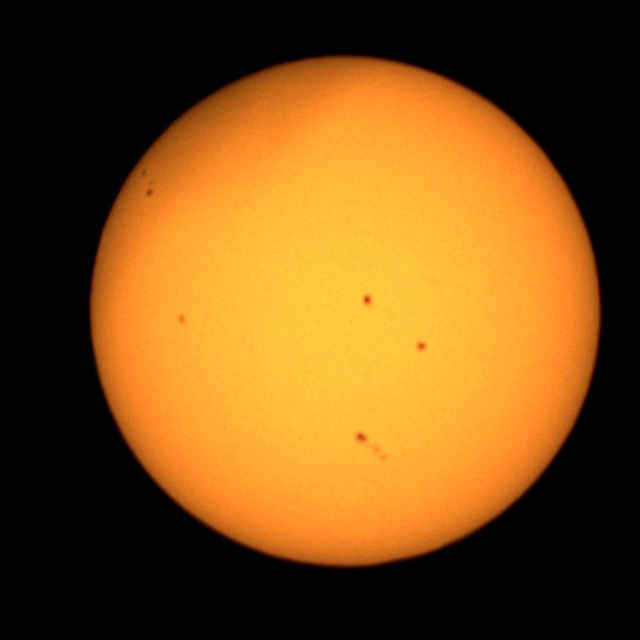sunspot: (355, 430, 389, 464), (139, 168, 156, 198), (353, 430, 370, 446), (414, 340, 428, 354), (176, 312, 188, 326), (361, 293, 373, 307), (144, 186, 155, 199)
